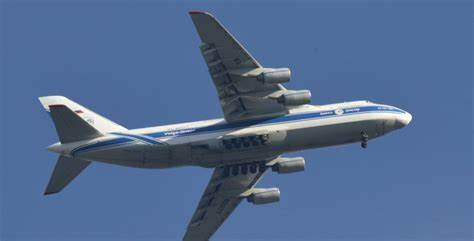Aeronef_commercial: (28, 7, 420, 241)
